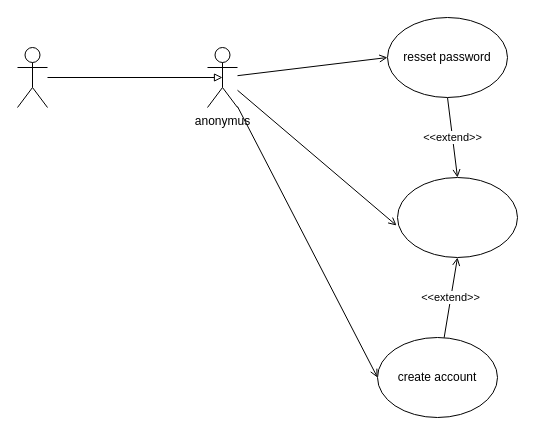
This 535x435 diagram has some shape labels left out. The centre of each missing label's shape, as x and y in pixels:
"login" belongs at point 457,217.
"user" belongs at point 32,77.
